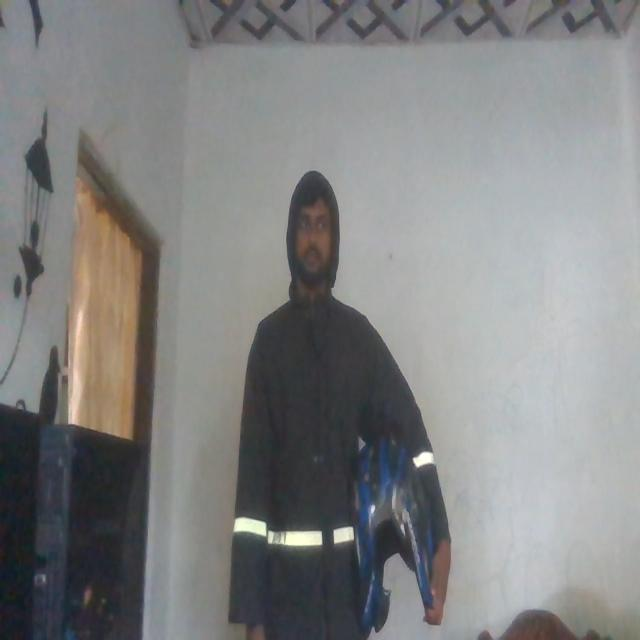Jacket_Wearer: (239, 292, 436, 638)
Person: (228, 142, 452, 640)
